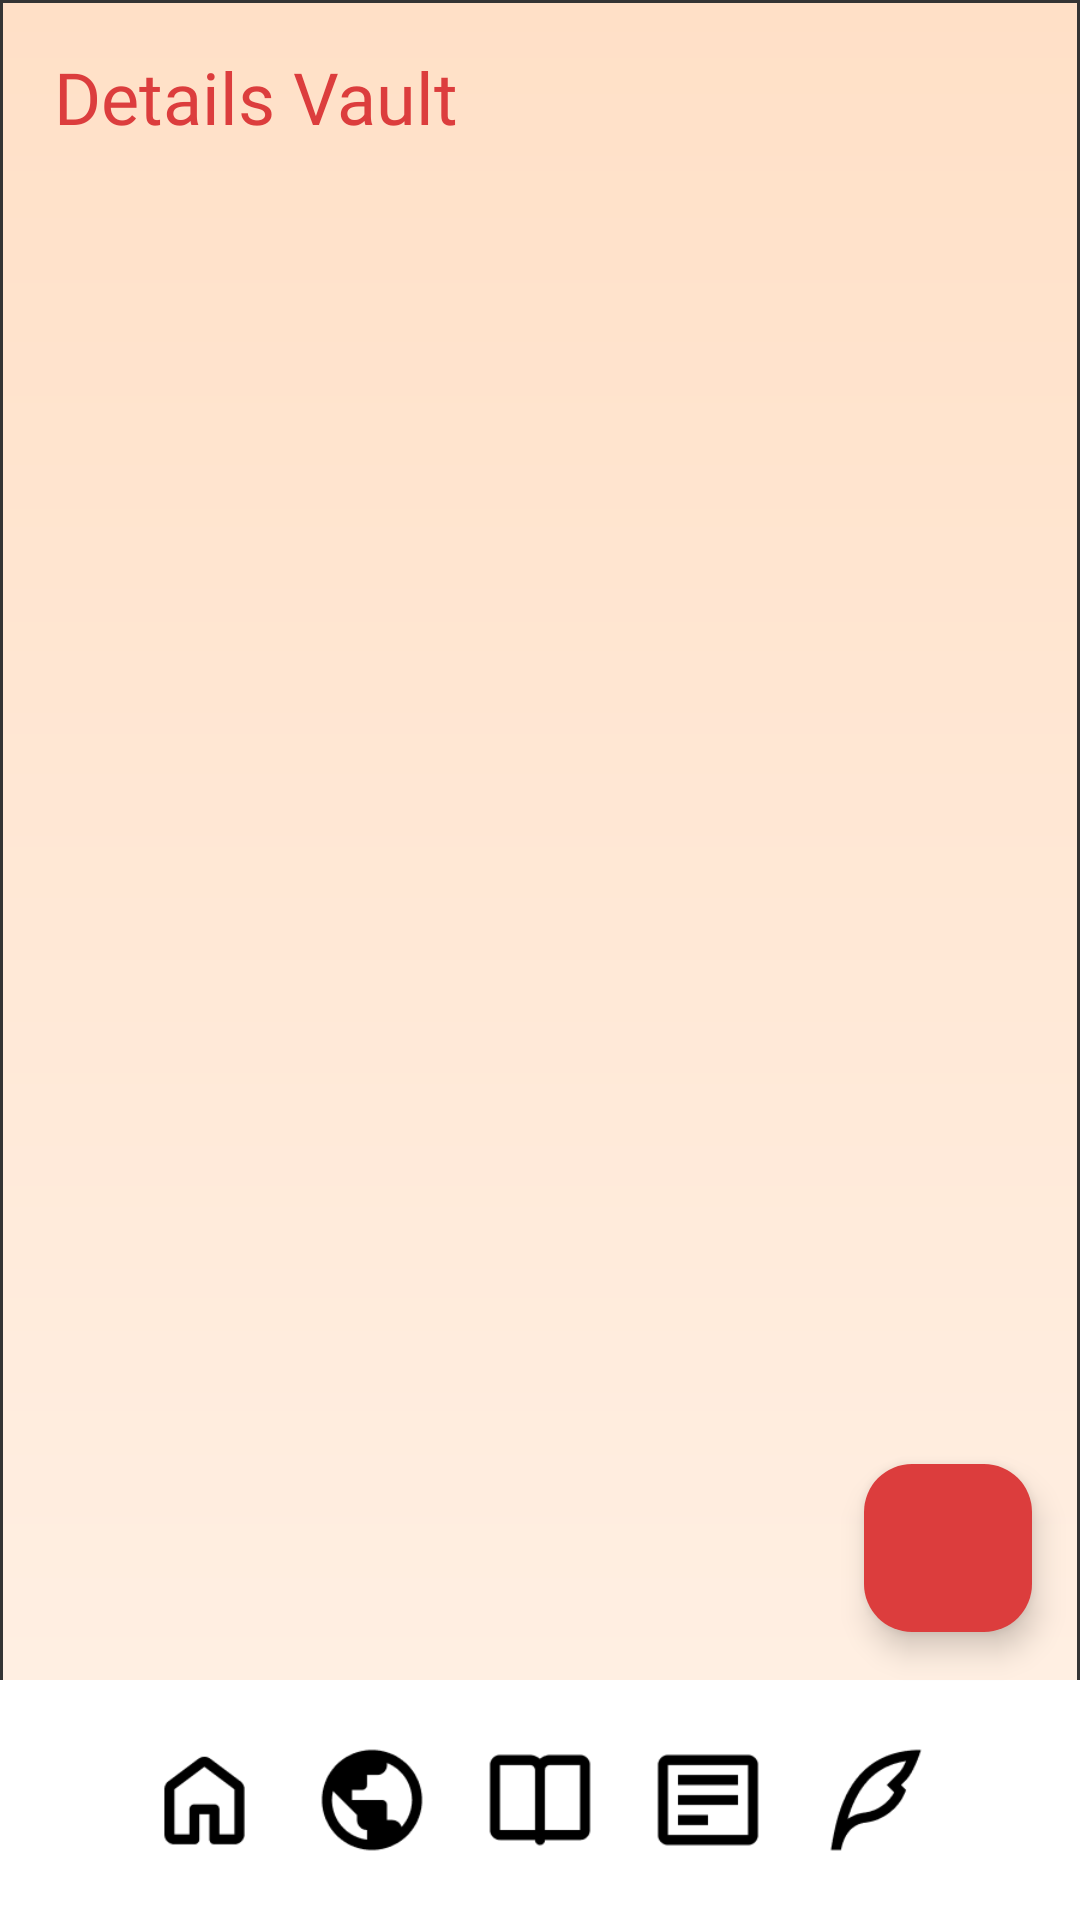

Named icons in this screenshot (1080*1920) and their bounding boxes, (x1, y1, x2, y2):
detailicon: (657, 1754, 759, 1846)
homeicon: (164, 1756, 245, 1845)
loreicon: (489, 1754, 591, 1846)
storyicon: (830, 1749, 922, 1851)
worldicon: (321, 1749, 423, 1851)
